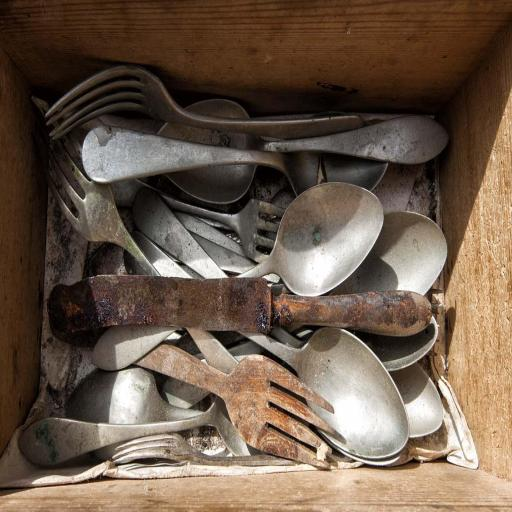segmentation: (50, 277, 430, 336)
